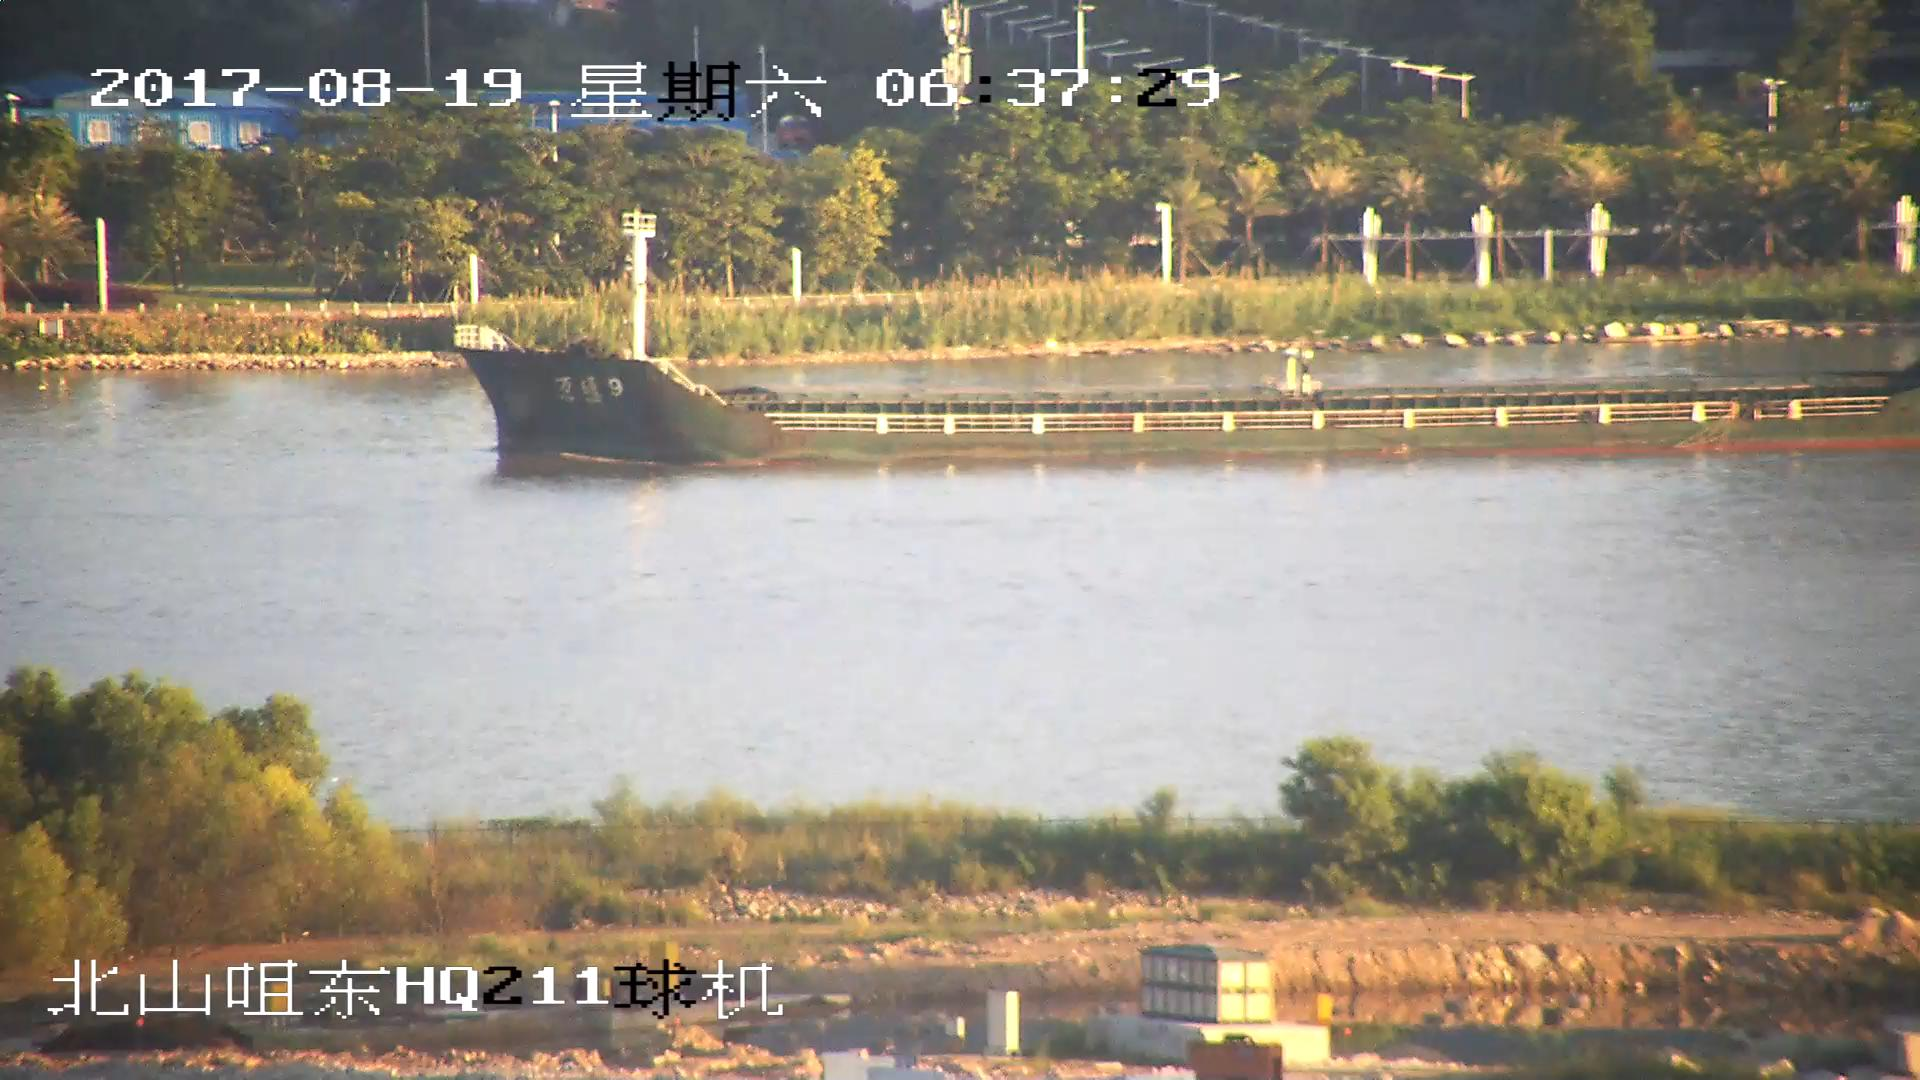general cargo ship: (449, 220, 1920, 464)
